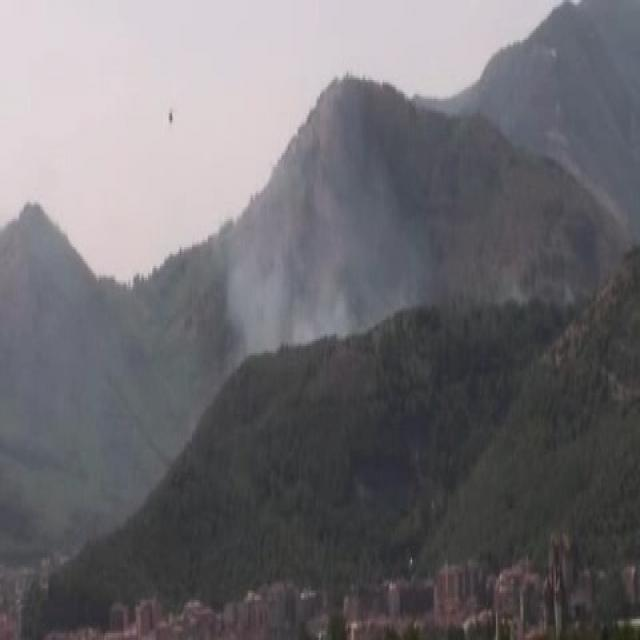smoke: (226, 154, 377, 364)
